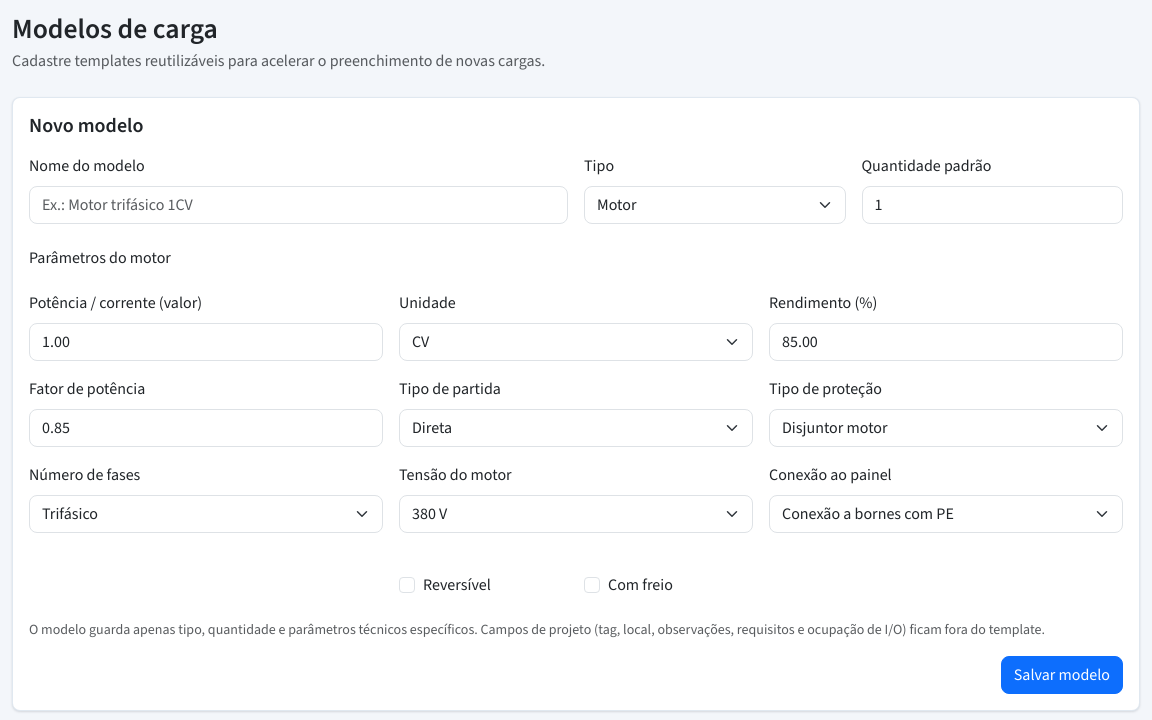
Test case: CargaModelosPage › alterna tipo e renderiza blocos específicos
The width and height of the screenshot is (1152, 720).
Select "Válvula" in the 1st dropdown at (715, 205), box x1=584 y1=186 x2=846 y2=224
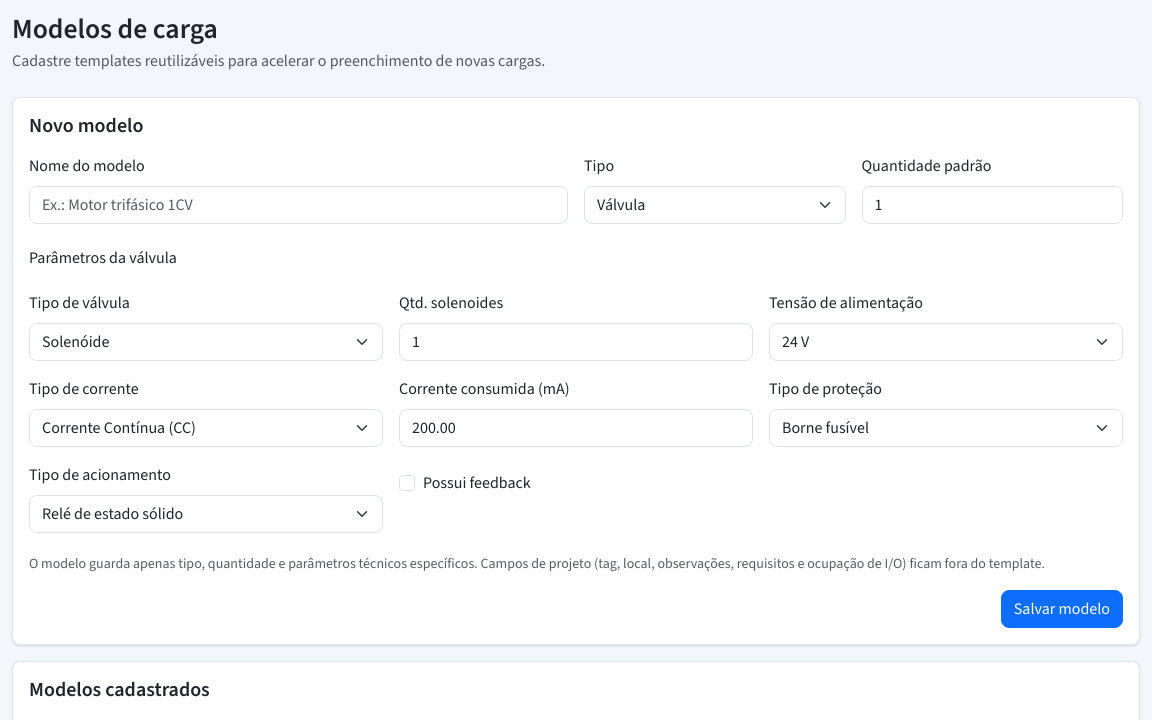
Expected: the heading "Parâmetros da válvula" is shown, x1=29 y1=247 x2=177 y2=268
Select "Resistência" in the 1st dropdown at (715, 205), box x1=584 y1=186 x2=846 y2=224
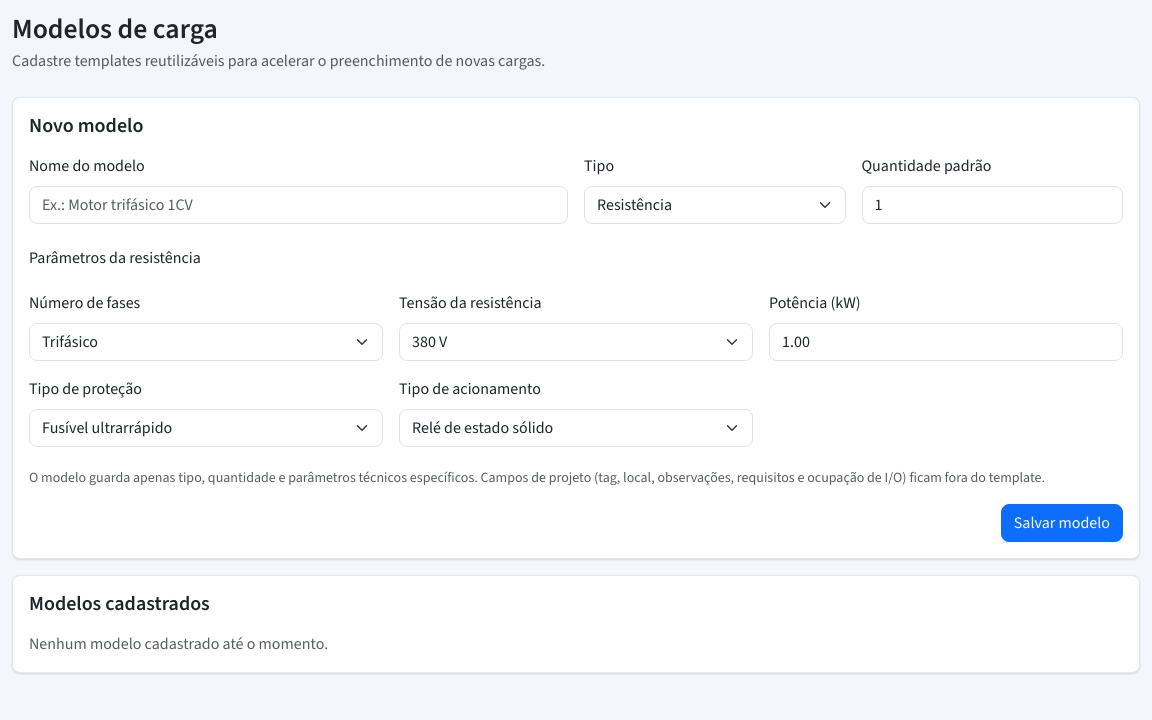
Expected: the heading "Parâmetros da resistência" is shown, x1=29 y1=247 x2=201 y2=268
Select "Sensor" in the 1st dropdown at (715, 205), box x1=584 y1=186 x2=846 y2=224
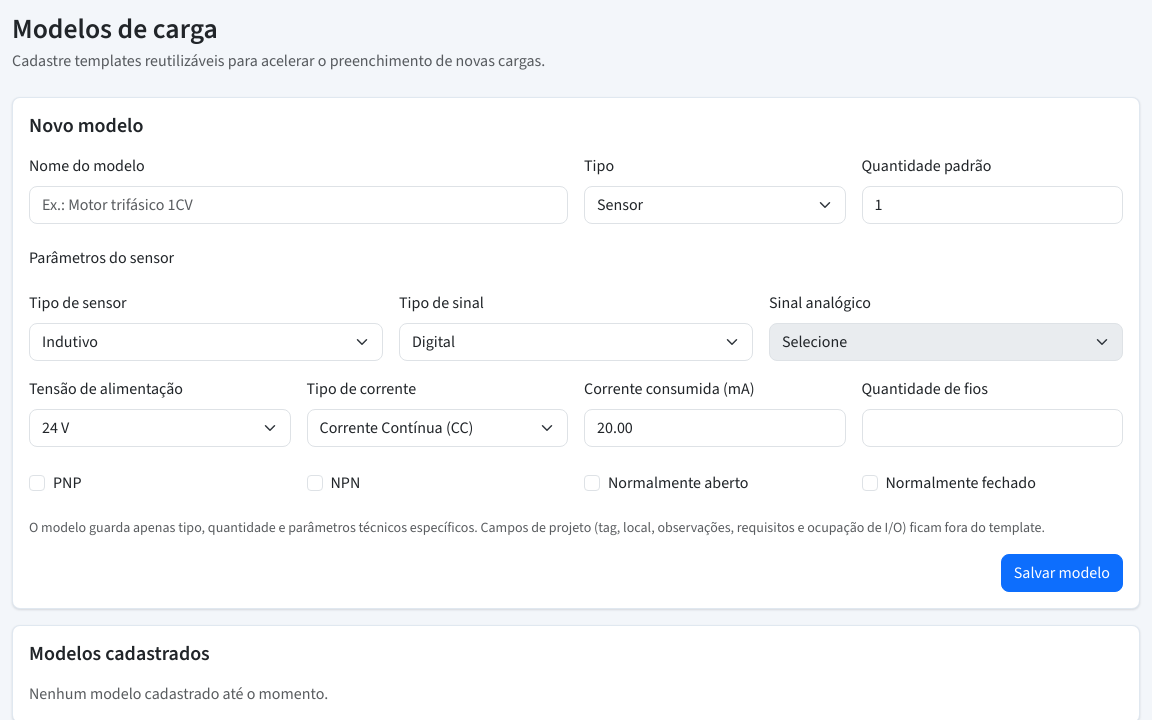
Expected: the heading "Parâmetros do sensor" is shown, x1=29 y1=247 x2=174 y2=268
Select "Transdutor" in the 1st dropdown at (715, 205), box x1=584 y1=186 x2=846 y2=224
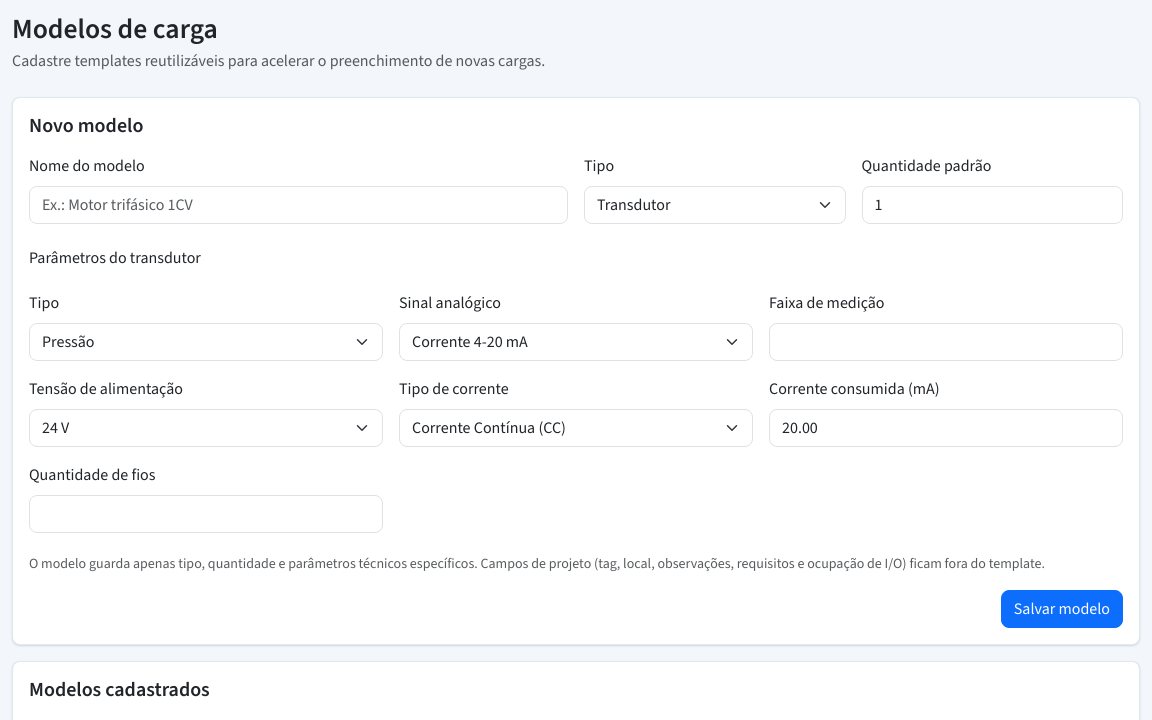
Expected: the heading "Parâmetros do transdutor" is shown, x1=29 y1=247 x2=201 y2=268
